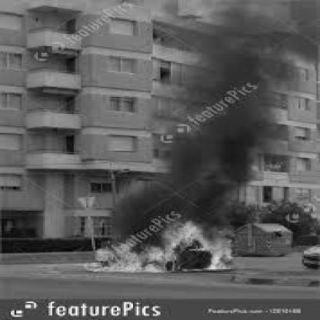Fire: (94, 213, 248, 273)
